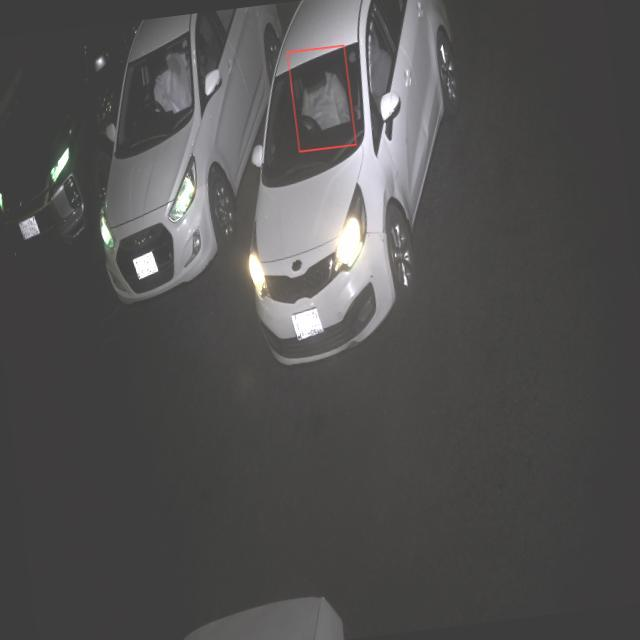windshield: (254, 39, 372, 191), (112, 31, 202, 161)
